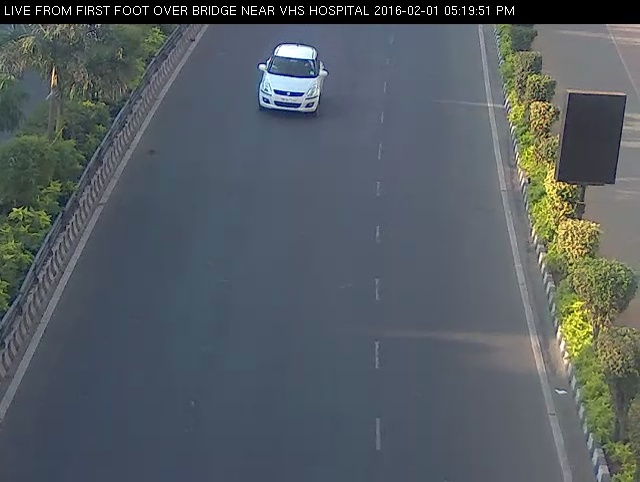Car: (251, 36, 332, 125)
